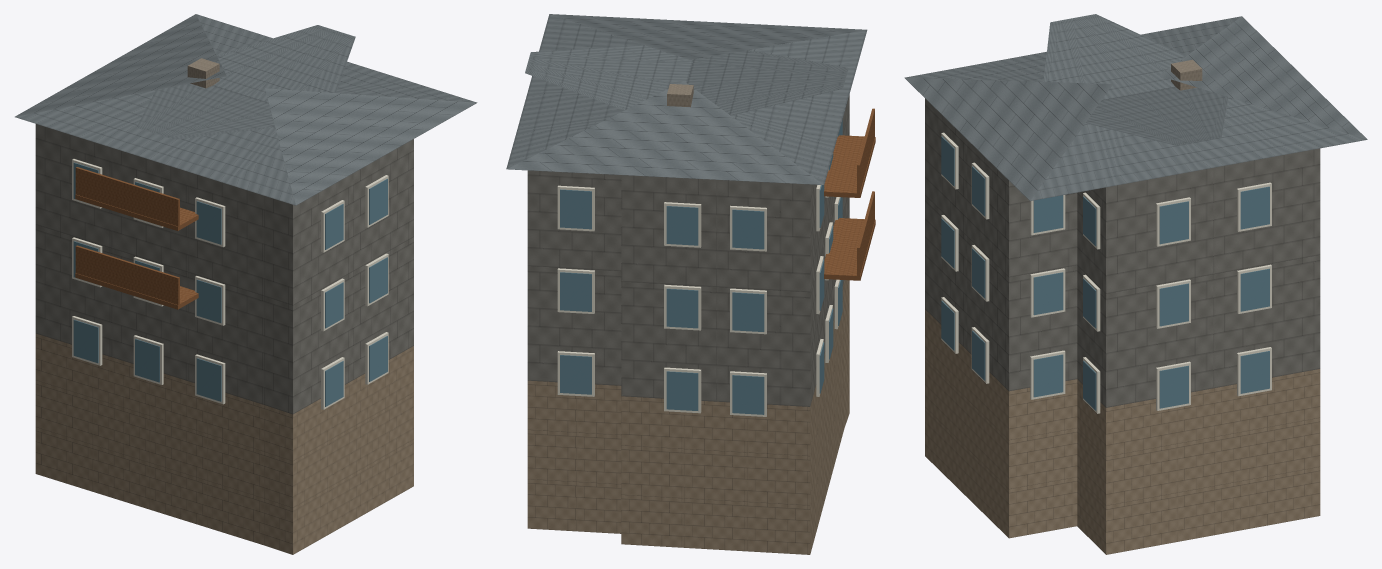
File: core_0093.gltf
3 views of the same model, side by side, from view 1: azimuth 30°, elevation 25°; view 2: azimuth 150°, elevation 25°; view 3: azimuth 270°, elevation 25° (orthographic). The views are drawn at different scales.
Parts seen in each view (by area): view 1: core_0093; view 2: core_0093; view 3: core_0093.
Boxes of the visible parts, bbox=[...] form: core_0093: bbox=[15, 14, 477, 554]; core_0093: bbox=[506, 14, 875, 554]; core_0093: bbox=[904, 14, 1367, 554].
Bounding box in the file's own units: 13.76 × 14.15 × 14.57.
Materials: 7 (7 with a texture image).
